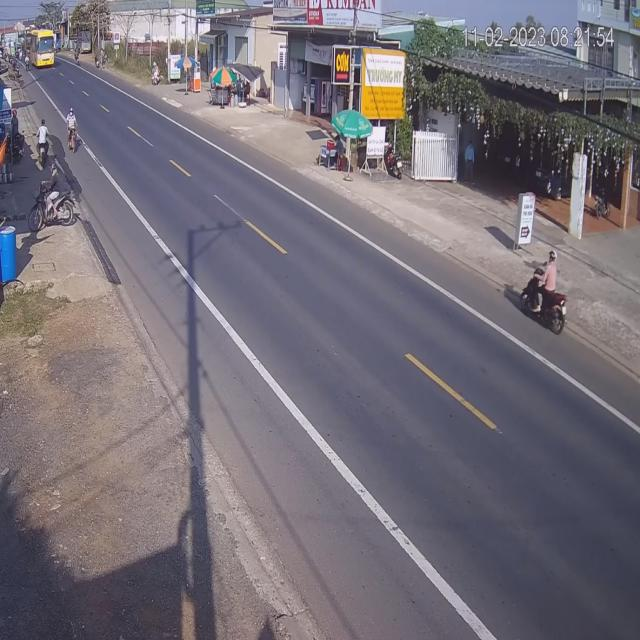bus: (32, 29, 54, 70)
motorbike: (520, 250, 570, 334), (34, 119, 49, 172), (66, 106, 79, 152)
